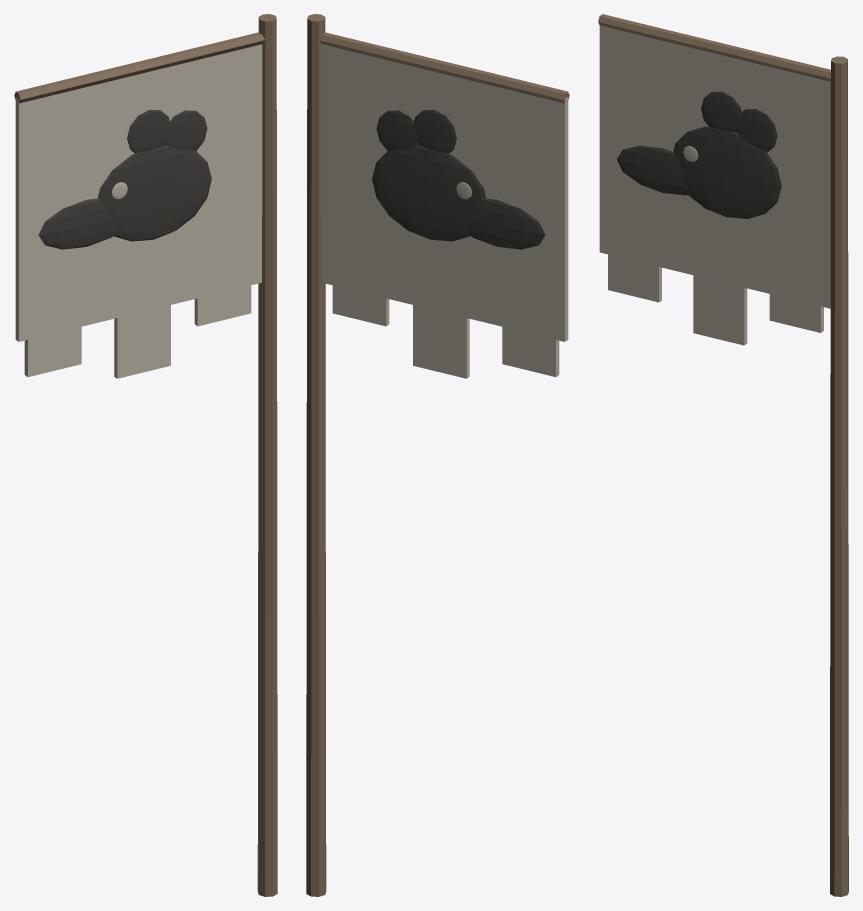
File: RatBanner.fbx
The picture shows the model from 3 angles, left to right: view 1: azimuth 30°, elevation 25°; view 2: azimuth 150°, elevation 25°; view 3: azimuth 330°, elevation 25°; orthographic projection. The views are drawn at different scales.
Visible parts, largest first — view 1: RatBanner; view 2: RatBanner; view 3: RatBanner.
Boxes of the visible parts, box(x1,y1,x2,y2) form: RatBanner: box(14, 14, 277, 896); RatBanner: box(306, 14, 569, 896); RatBanner: box(598, 14, 848, 896).
Bounding box in the file's own units: 29 × 93.5 × 2.
